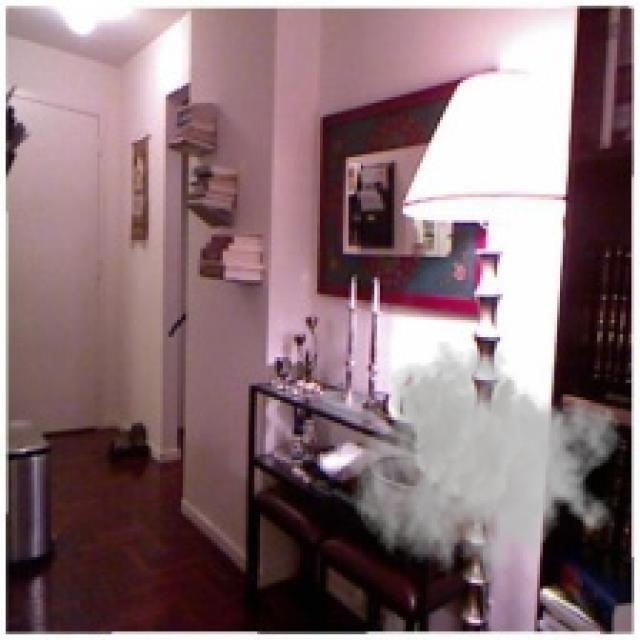Smoke: (351, 340, 623, 603)
